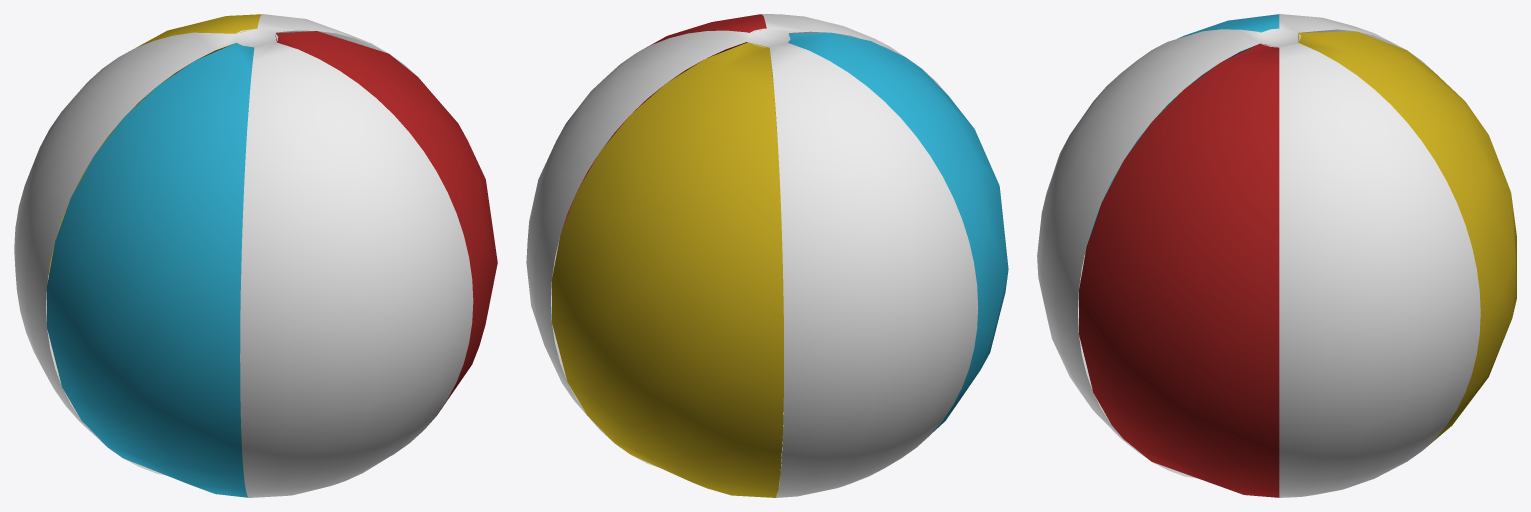
Rendered from beachBall.glb.
3 views of the same model, side by side, from view 1: azimuth 30°, elevation 25°; view 2: azimuth 150°, elevation 25°; view 3: azimuth 270°, elevation 25° (orthographic).
Parts seen in each view (by area): view 1: Sphere_white_0, Sphere_blue_0, Sphere_red_0, Sphere_yellow_0; view 2: Sphere_white_0, Sphere_yellow_0, Sphere_blue_0, Sphere_red_0; view 3: Sphere_white_0, Sphere_red_0, Sphere_yellow_0, Sphere_blue_0.
Boxes of the visible parts, bbox=[...] form: Sphere_white_0: bbox=[14, 14, 473, 497]; Sphere_blue_0: bbox=[47, 43, 254, 497]; Sphere_red_0: bbox=[275, 31, 497, 427]; Sphere_yellow_0: bbox=[48, 14, 261, 275]; Sphere_white_0: bbox=[526, 14, 978, 497]; Sphere_yellow_0: bbox=[552, 42, 783, 497]; Sphere_blue_0: bbox=[788, 32, 1008, 432]; Sphere_red_0: bbox=[562, 14, 766, 230]; Sphere_white_0: bbox=[1037, 14, 1480, 497]; Sphere_red_0: bbox=[1079, 43, 1279, 497]; Sphere_yellow_0: bbox=[1298, 31, 1516, 448]; Sphere_blue_0: bbox=[1085, 14, 1279, 253].
Size of the model in its own units: 0.4522 by 0.45 by 0.4478.
